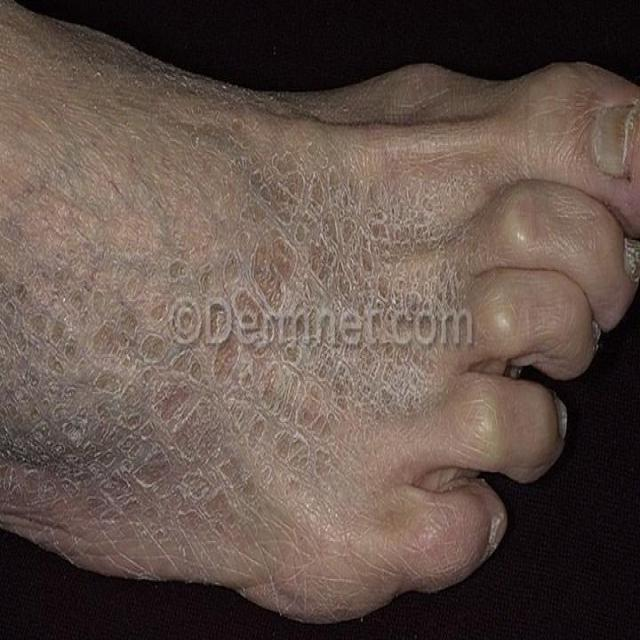liquenificacion 1: (3, 139, 468, 636)
liquenificacion 2: (3, 139, 468, 636)
liquenificacion 3: (0, 140, 476, 535)
